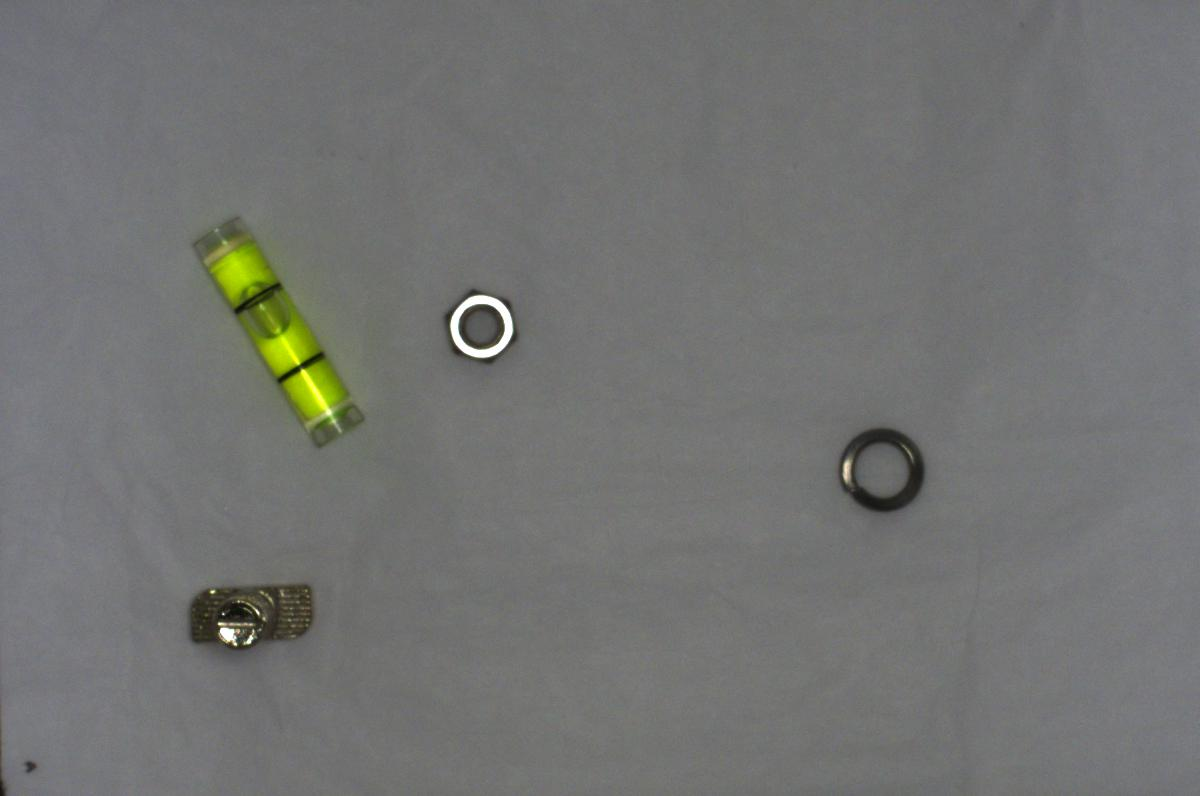Hexagon nut: (434, 281, 521, 363)
Horizontal bubble: (184, 205, 370, 456)
Spring washer: (831, 419, 931, 522)
T-shaped screw: (174, 572, 330, 661)
